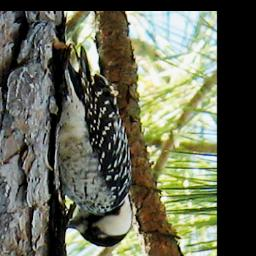Woodpecker: (52, 40, 134, 248)
